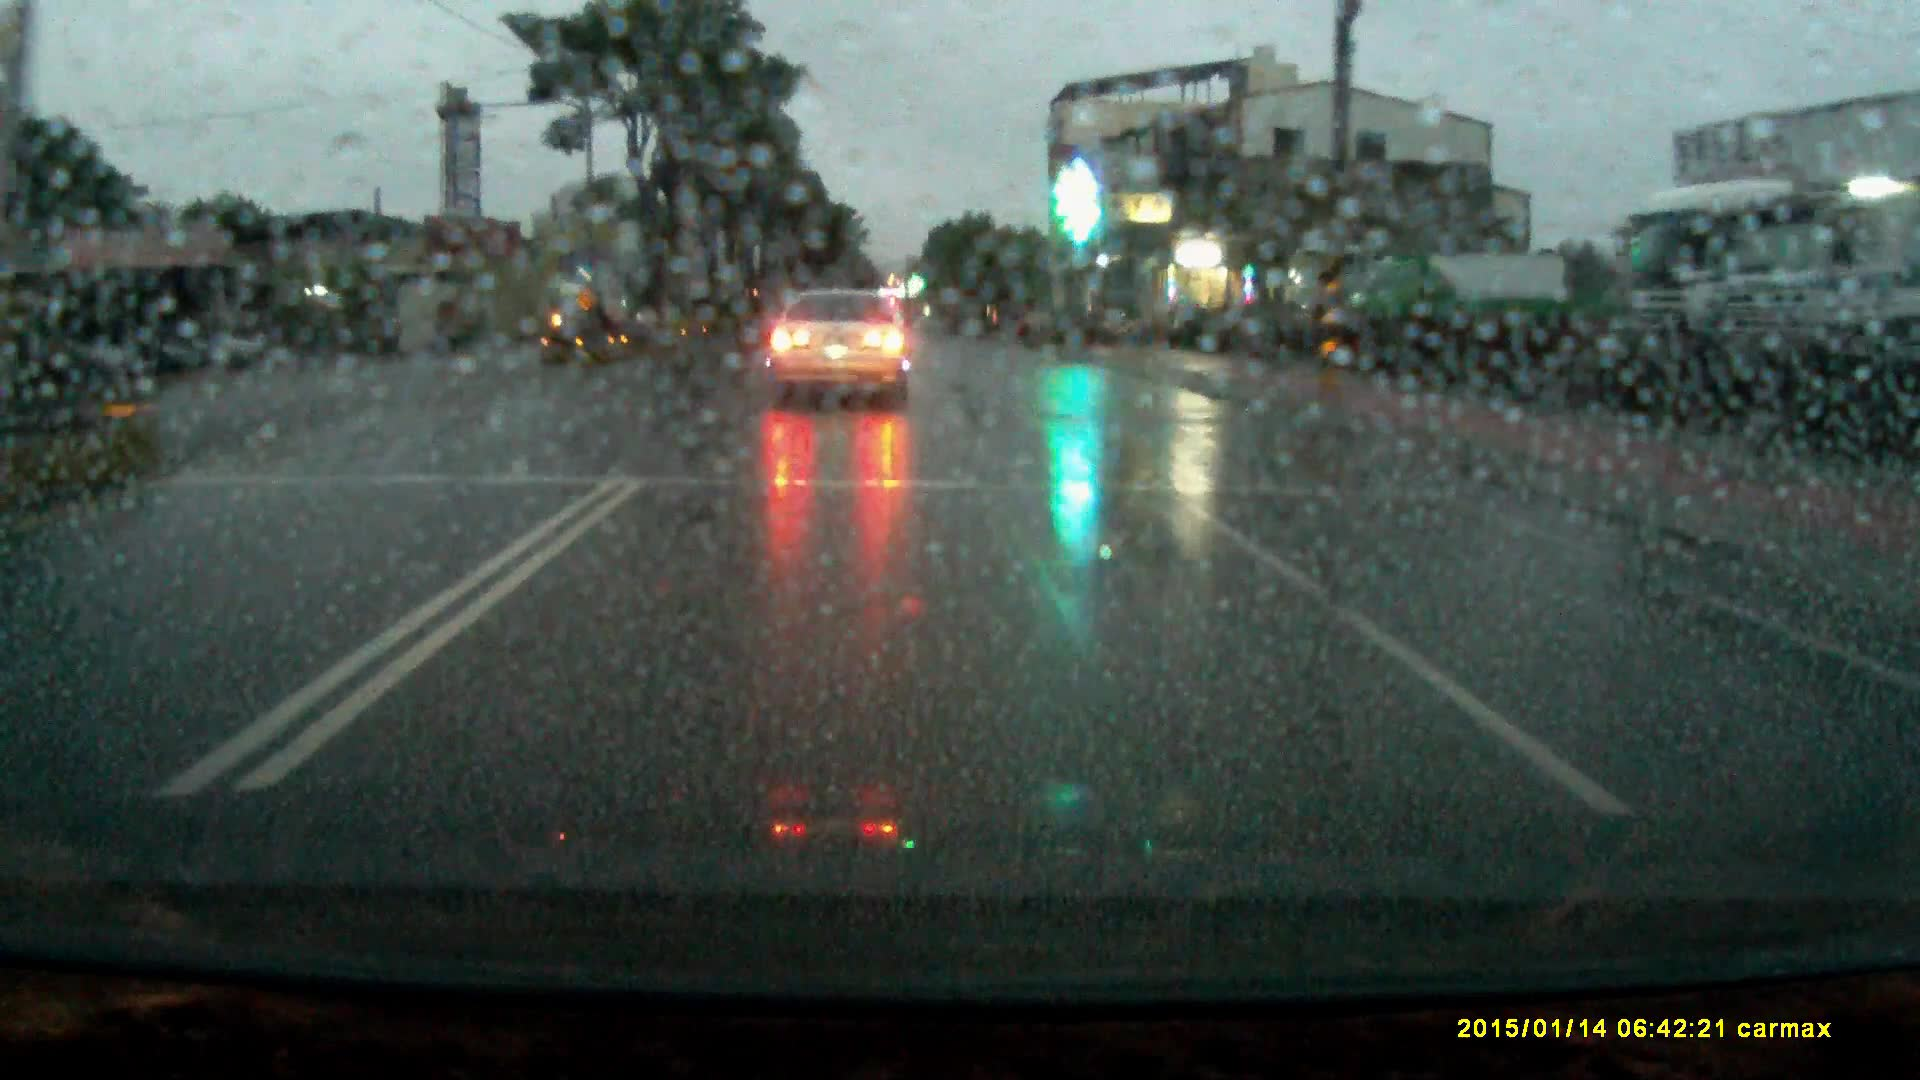vehicle: (1617, 175, 1850, 425), (1756, 208, 1920, 434), (1364, 251, 1565, 345), (771, 290, 920, 414), (1286, 237, 1385, 347), (551, 277, 613, 338)
